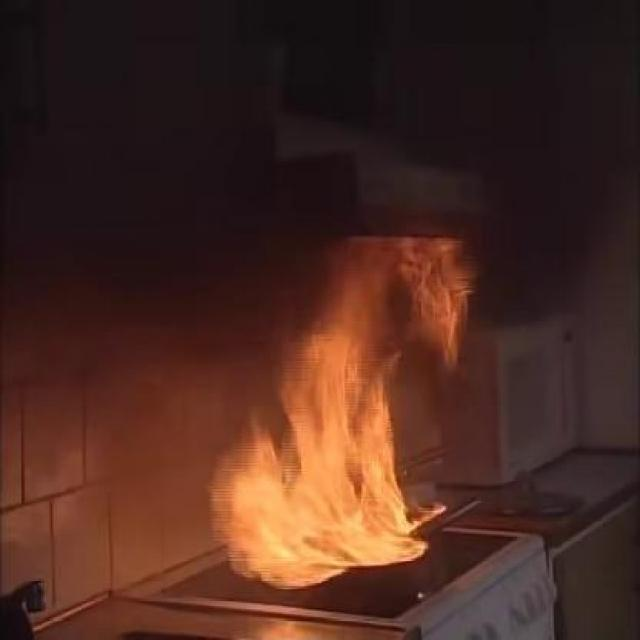fire: (216, 380, 429, 572), (358, 246, 456, 362)
smoke: (86, 134, 232, 233), (118, 264, 200, 386), (128, 420, 192, 529), (228, 292, 256, 371)
